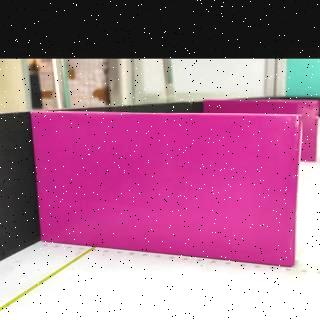xparking: (42, 112, 300, 266)
